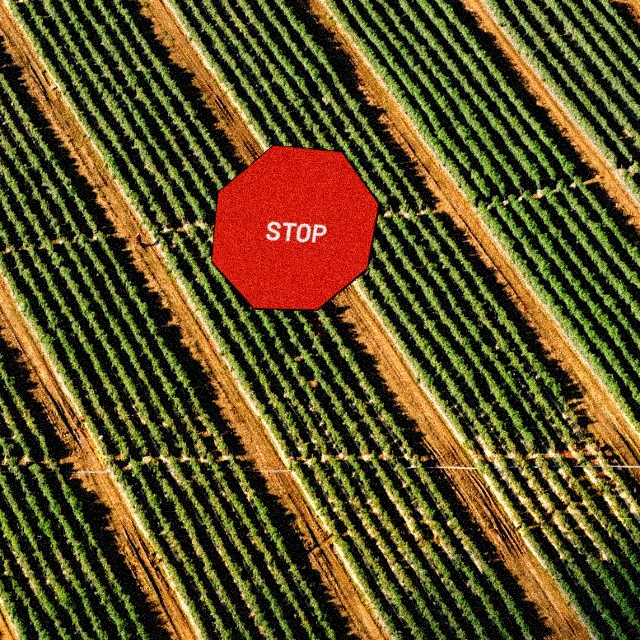STOP: (210, 144, 380, 311)
